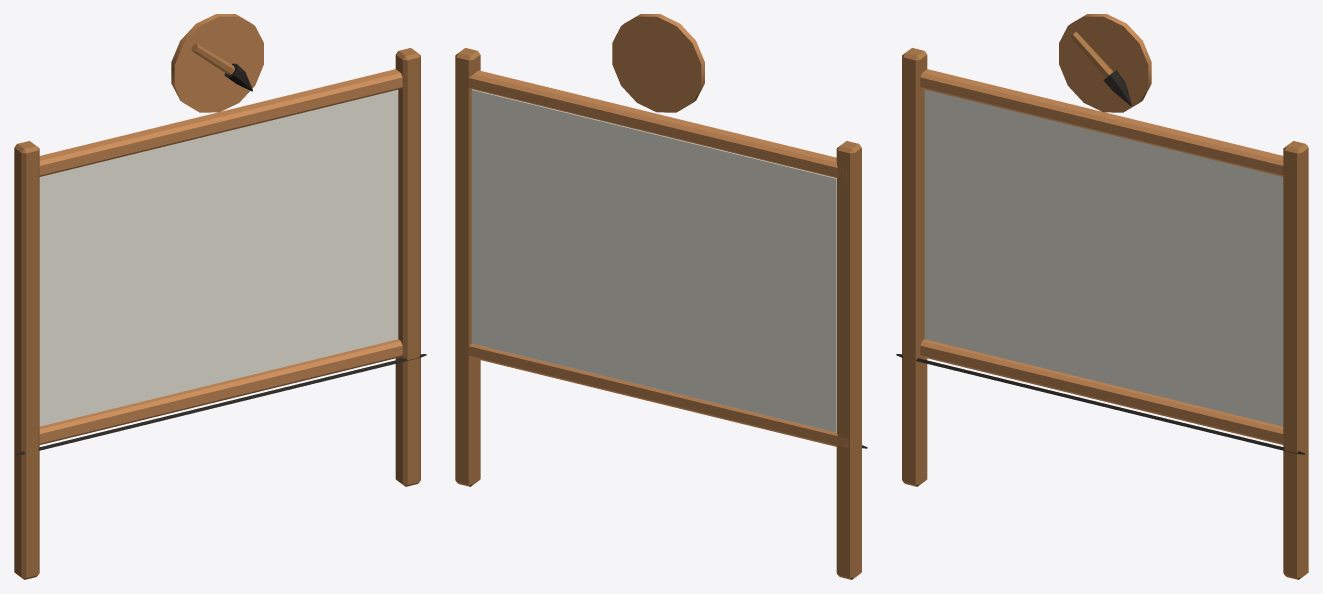
Rendered from PictureBoard.fbx.
The picture shows the model from 3 angles, left to right: view 1: azimuth 30°, elevation 25°; view 2: azimuth 150°, elevation 25°; view 3: azimuth 330°, elevation 25°; orthographic projection.
Visible parts, largest first — view 1: Face, Board; view 2: Board; view 3: Face, Board.
Part boxes in pixels (<box>): Face: <box>40,93,394,421</box>; Board: <box>14,14,426,579</box>; Board: <box>455,14,867,579</box>; Face: <box>929,93,1282,421</box>; Board: <box>896,14,1308,579</box>.
Size of the model in its own units: 2.68 by 3.22 by 0.1587.
